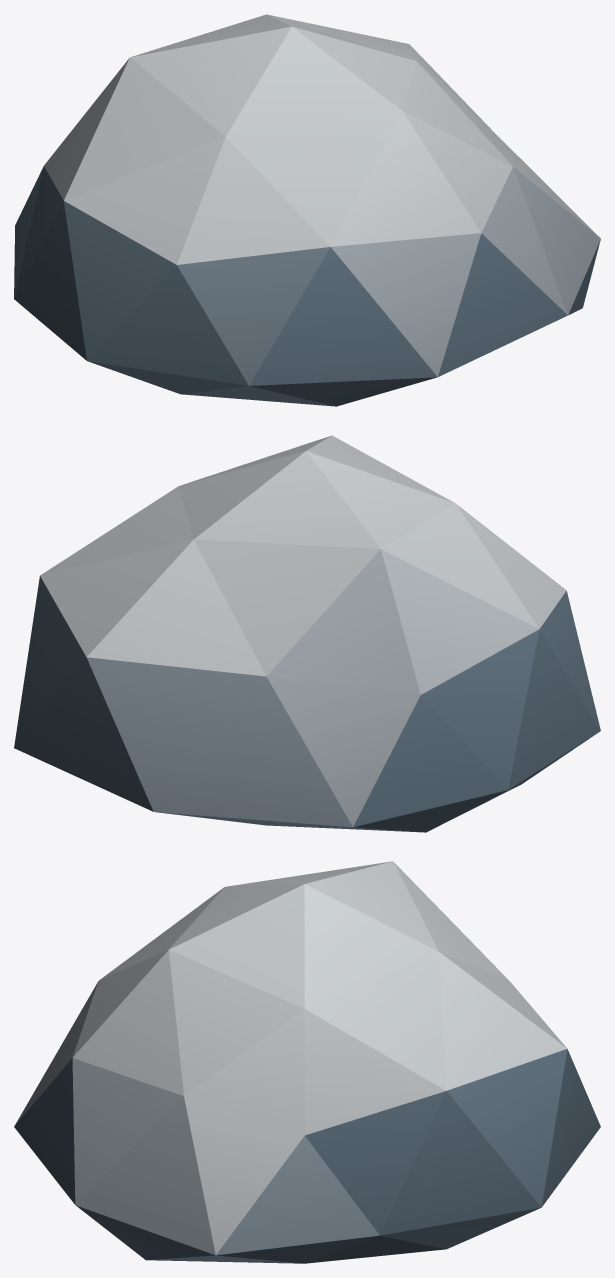
The model's file is ice_rock_a.glb.
The picture shows the model from 3 angles, top to bottom: view 1: azimuth 30°, elevation 25°; view 2: azimuth 150°, elevation 25°; view 3: azimuth 270°, elevation 25°; orthographic projection. The views are drawn at different scales.
Visible parts, largest first — view 1: ice_rock_a; view 2: ice_rock_a; view 3: ice_rock_a.
Boxes of the visible parts, box(x1,y1,x2,y2) form: ice_rock_a: box(14, 14, 600, 406); ice_rock_a: box(14, 435, 600, 832); ice_rock_a: box(14, 861, 600, 1263).
Size of the model in its own units: 1.85 by 0.9528 by 1.85.
